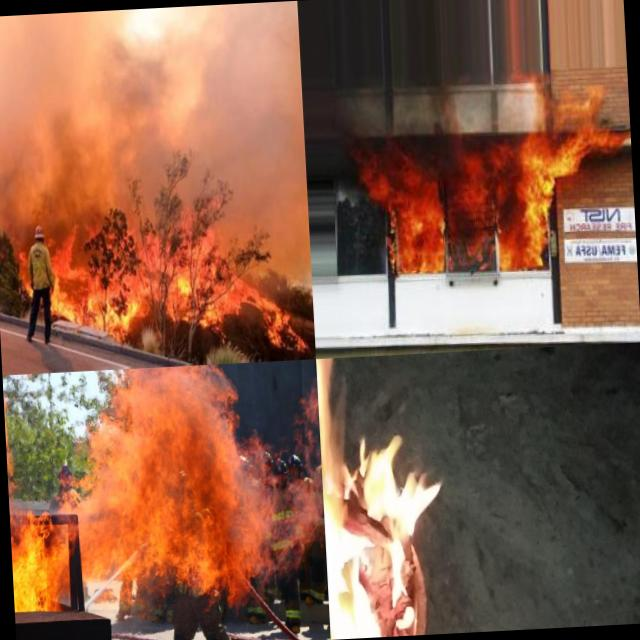fire: (2, 360, 328, 618), (316, 353, 441, 640), (448, 143, 562, 274), (354, 142, 448, 278), (54, 240, 140, 338), (555, 112, 628, 178), (513, 68, 607, 118)
smoke: (0, 141, 107, 247), (335, 92, 420, 160), (417, 82, 465, 165)
